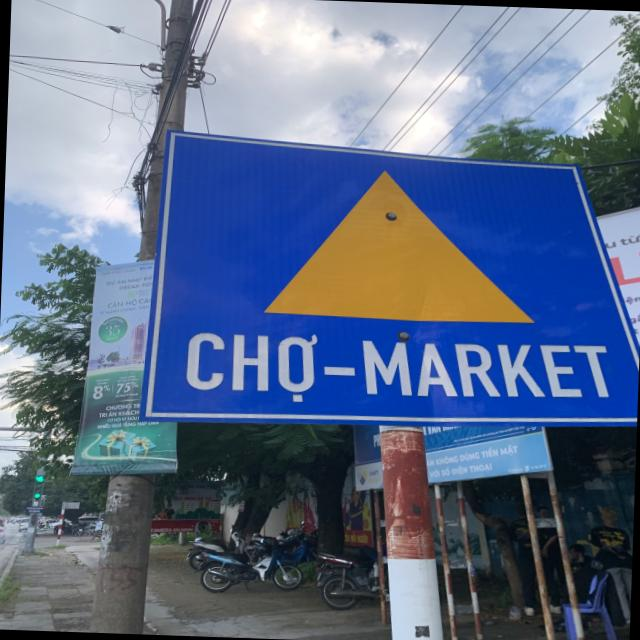Cho_Quay_Xe: (145, 134, 640, 429)
